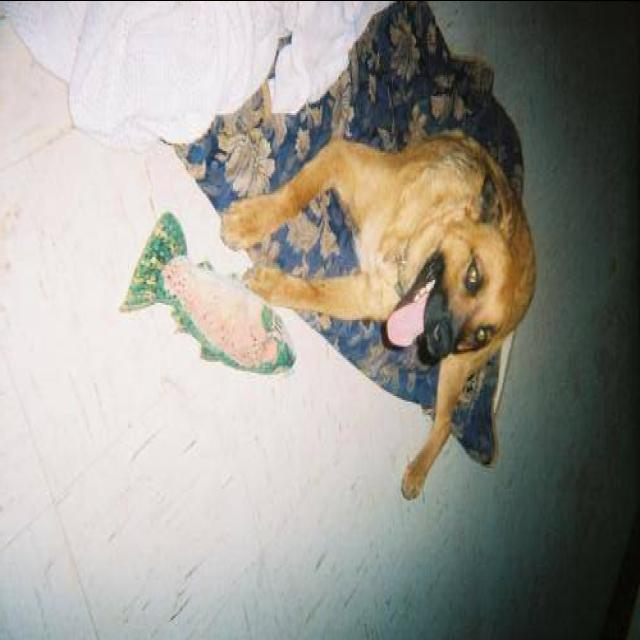dog: (110, 54, 584, 520)
